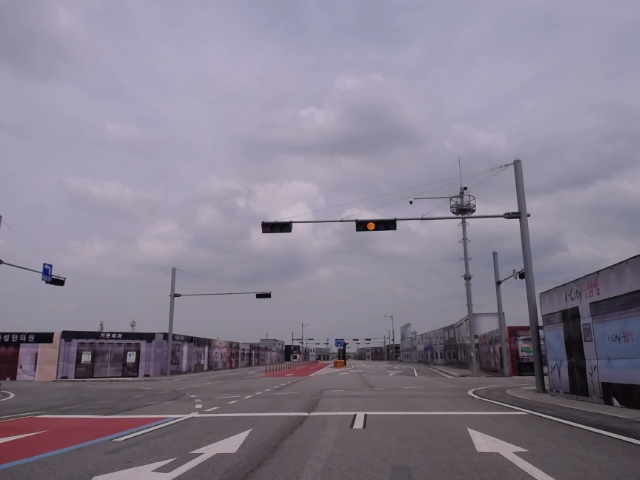orange_4: (352, 217, 398, 233)
